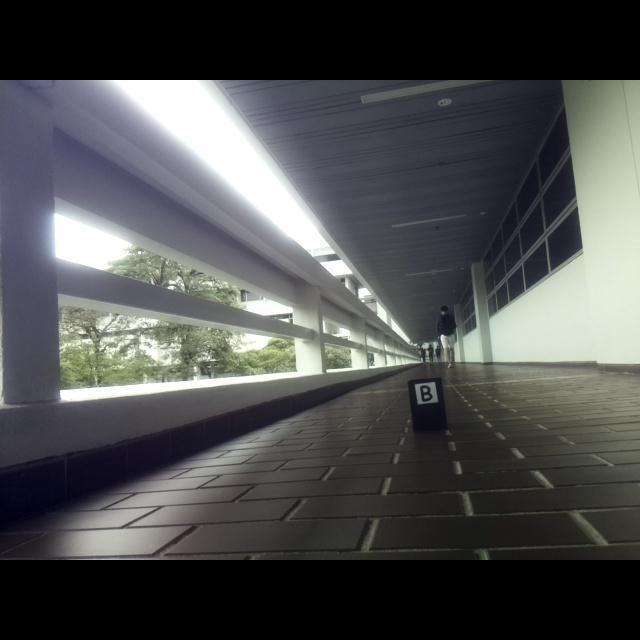B: (419, 385, 433, 402)
